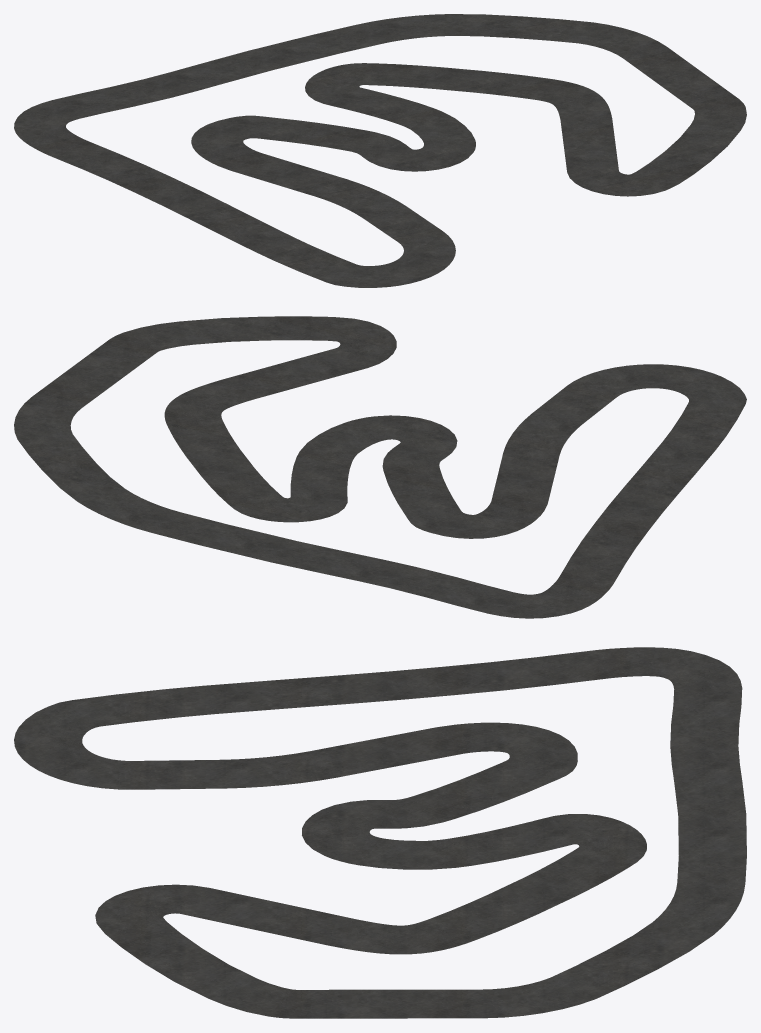
File: track.dae
The picture shows the model from 3 angles, top to bottom: view 1: azimuth 30°, elevation 25°; view 2: azimuth 150°, elevation 25°; view 3: azimuth 270°, elevation 25°; orthographic projection. The views are drawn at different scales.
Parts seen in each view (by area): view 1: track; view 2: track; view 3: track.
Boxes of the visible parts, x1,y1,x2,y2 form: track: (14,14,746,287); track: (14,316,746,618); track: (14,647,746,1018).
Size of the model in its own units: 16.51 by 13.77 by 5.89e-07.
1 material, 1 textured.
